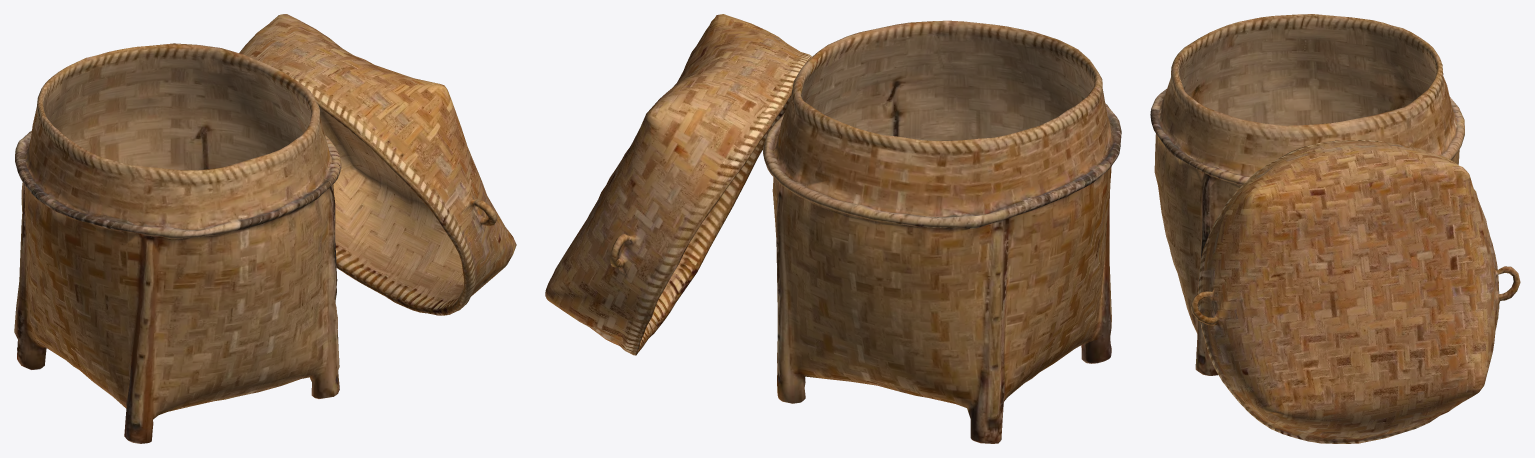
The model's file is wicker_basket_02.glb.
3 renders of one model, left to right at view 1: azimuth 30°, elevation 25°; view 2: azimuth 150°, elevation 25°; view 3: azimuth 270°, elevation 25°, orthographic. The views are drawn at different scales.
Visible parts, largest first — view 1: wicker_basket_02_base; view 2: wicker_basket_02_base; view 3: wicker_basket_02_base.
Part boxes in pixels (<box>): wicker_basket_02_base: <box>14,14,516,443</box>; wicker_basket_02_base: <box>545,14,1121,443</box>; wicker_basket_02_base: <box>1150,14,1520,443</box>.
Size of the model in its own units: 0.3469 by 0.2005 by 0.2545.
1 material, 1 textured.
